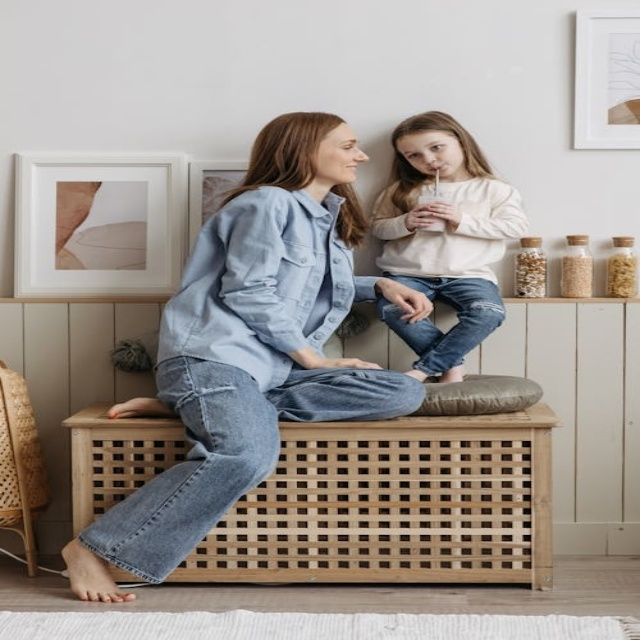Sin_gafas: (402, 138, 449, 159), (329, 136, 361, 153)
Sin_guantes: (376, 277, 433, 324), (406, 200, 458, 232)
Sin_mascara: (333, 161, 364, 182), (422, 160, 453, 174)
